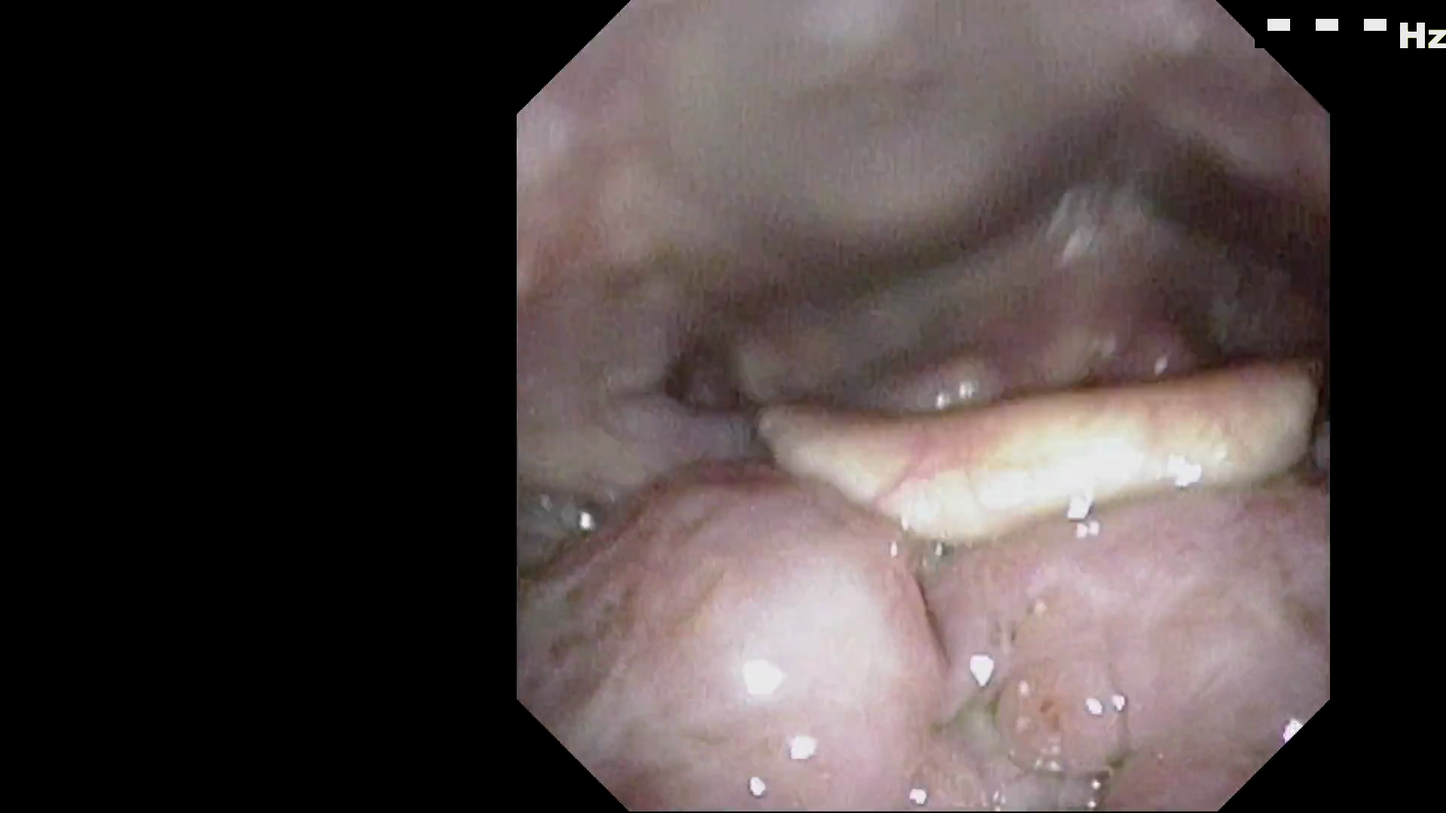epiglottis: (738, 410, 1312, 538)
